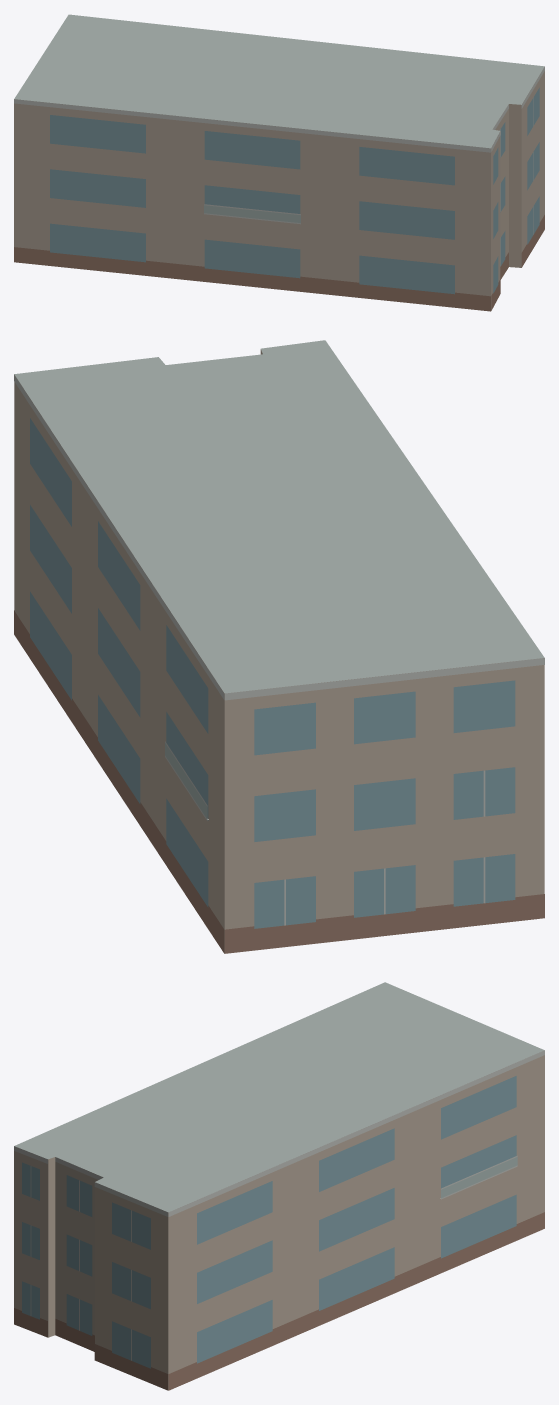
The model's file is survey-upis-32761966.glb.
3 views of the same model, one above another, from view 1: azimuth 30°, elevation 25°; view 2: azimuth 150°, elevation 25°; view 3: azimuth 270°, elevation 25° (orthographic). The views are drawn at different scales.
Parts seen in each view (by area): view 1: survey-upis-32761966.tmp; view 2: survey-upis-32761966.tmp; view 3: survey-upis-32761966.tmp.
Part boxes in pixels (x1,y1,x2,y2): survey-upis-32761966.tmp: (14, 14, 544, 311); survey-upis-32761966.tmp: (14, 340, 544, 953); survey-upis-32761966.tmp: (14, 982, 544, 1390).
Size of the model in its own units: 25.35 by 9.15 by 24.69.
